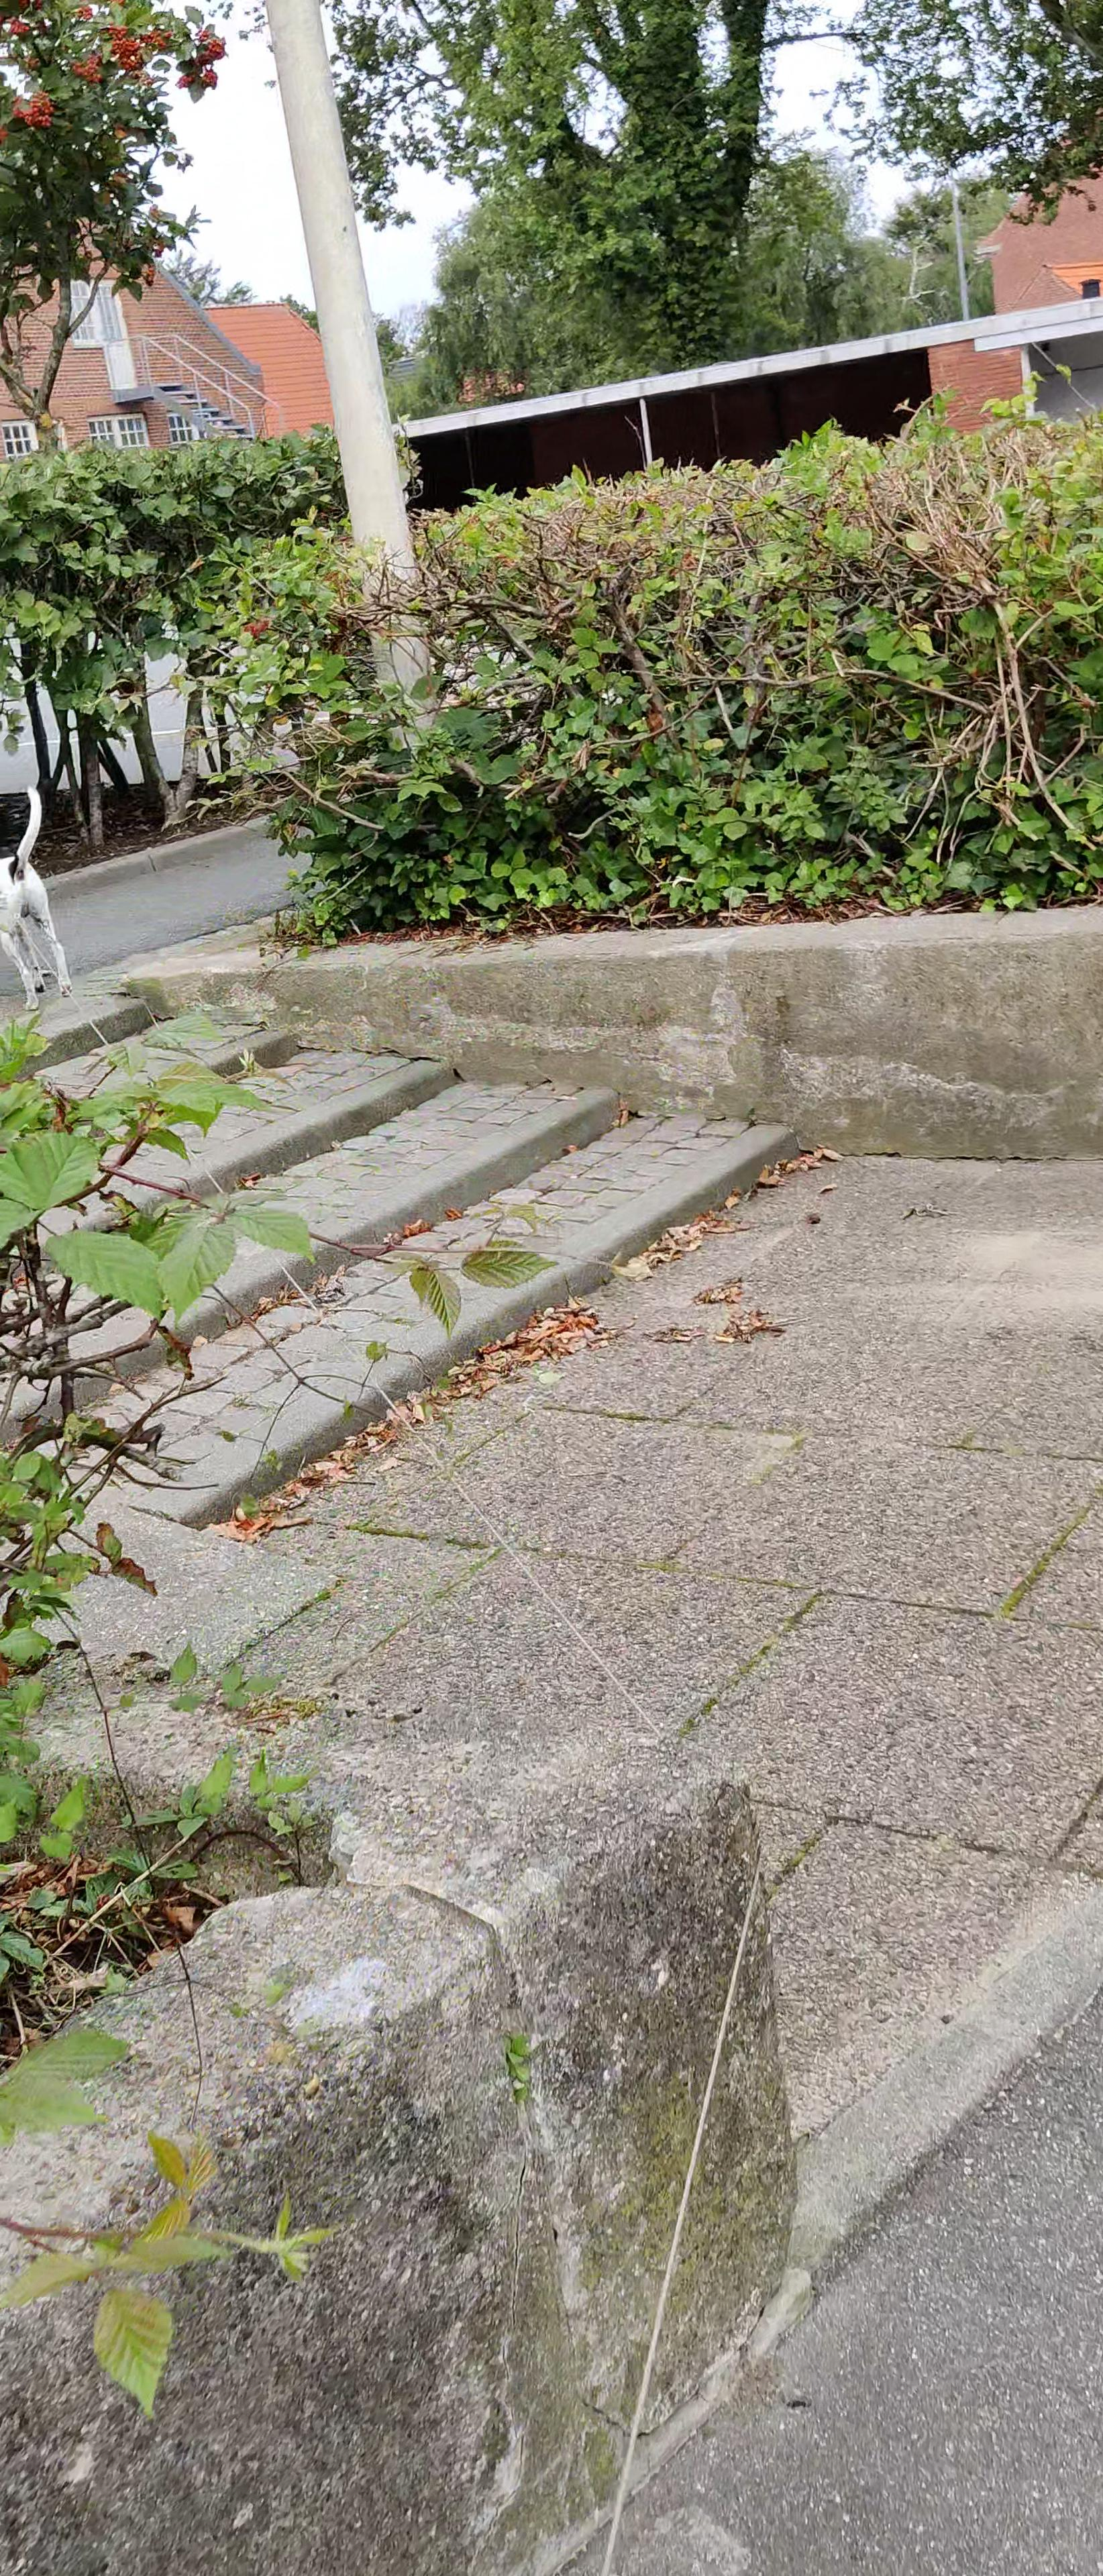Dog: (0, 780, 81, 1019)
